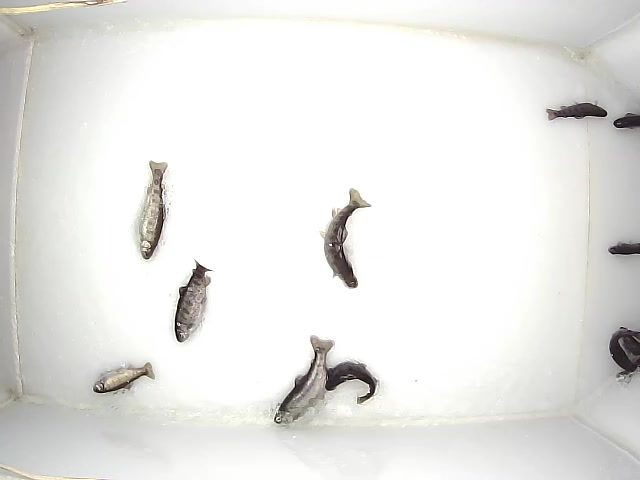fish: (274, 335, 335, 425), (319, 188, 372, 289), (295, 362, 377, 404), (175, 258, 214, 343), (139, 160, 168, 260), (93, 361, 155, 393), (609, 329, 640, 372), (546, 100, 607, 121), (618, 327, 640, 368), (608, 240, 640, 255), (613, 112, 640, 129)
